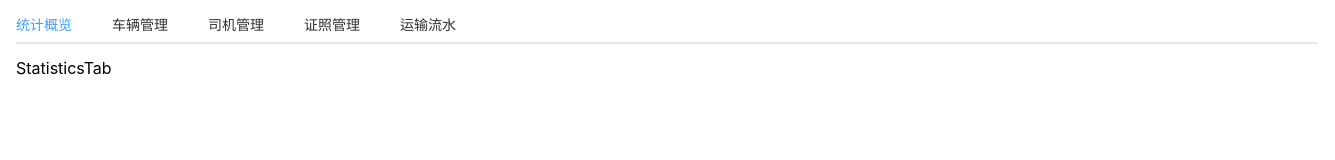
Test: FleetPage › switches to vehicle tab when activeTab changes
This screenshot has width=1335, height=160.
Step 1. Click the tab "车辆管理" → click(140, 24), box [112,16,168,33]
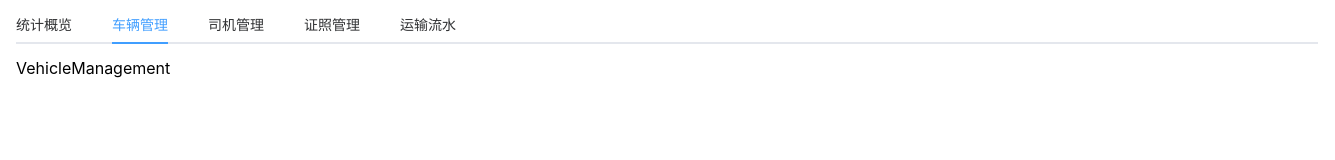
expect the text "VehicleManagement" is shown: met, box [16,58,170,78]
